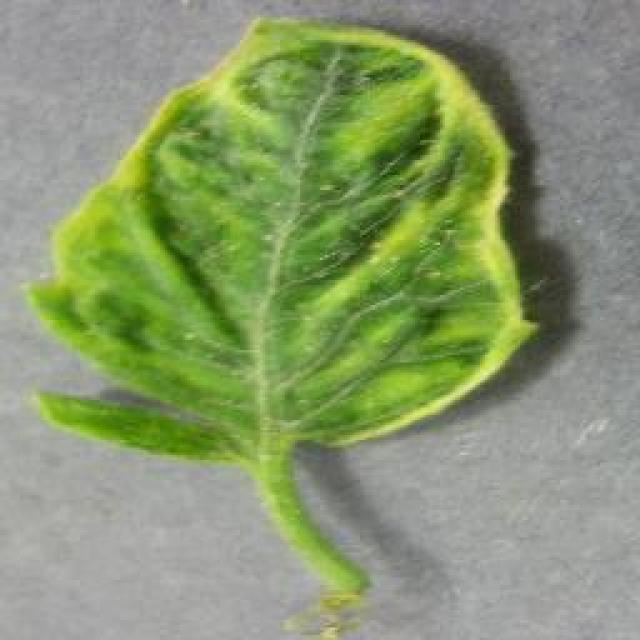Tomato yellow virus leaf: (26, 16, 538, 464)
